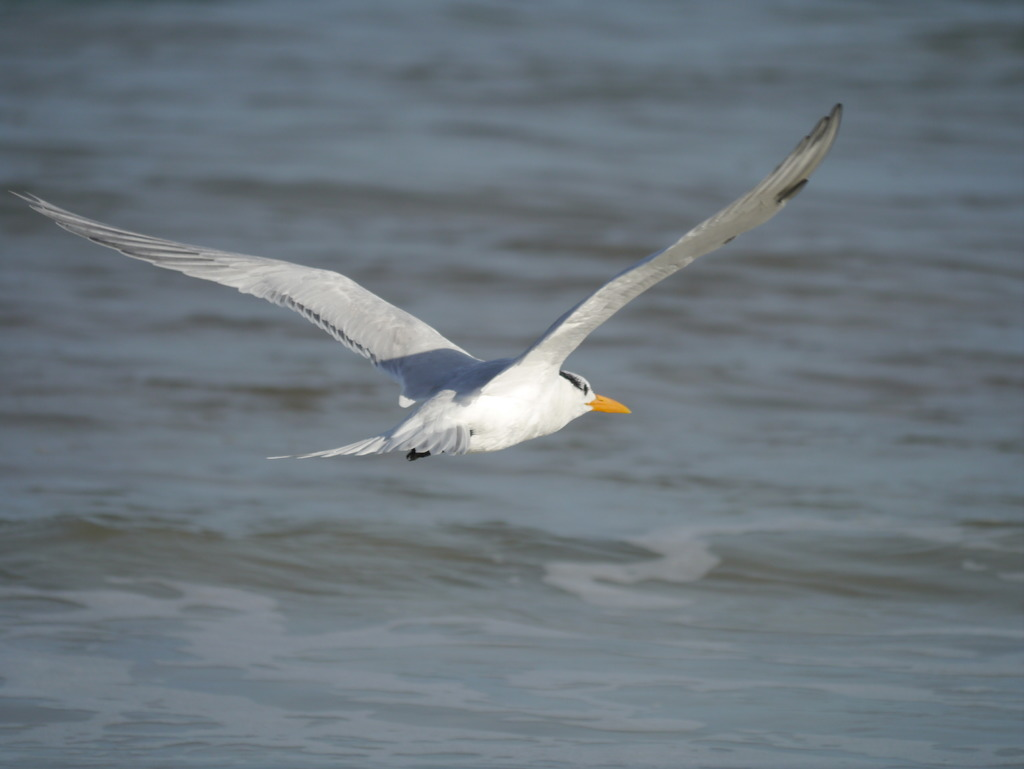Bird: (10, 101, 843, 460)
